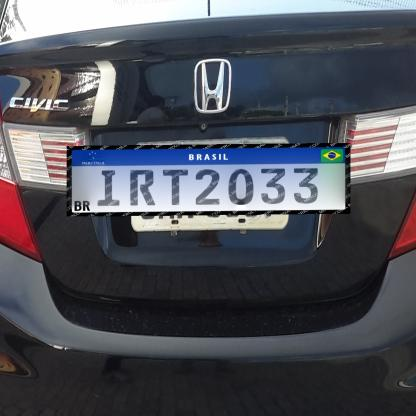PlacaM: (67, 143, 350, 216)
